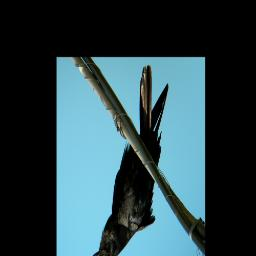Crow: (92, 63, 169, 256)
